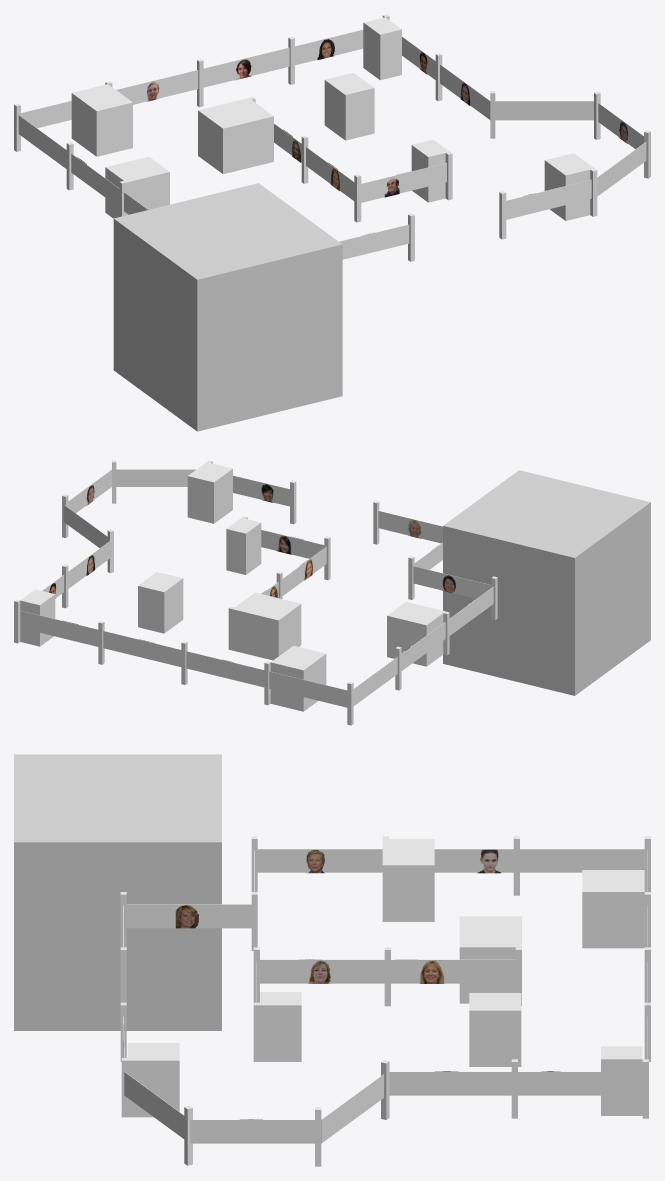
File: task3-faces.dae
3 views of the same model, one above another, from view 1: azimuth 30°, elevation 25°; view 2: azimuth 150°, elevation 25°; view 3: azimuth 270°, elevation 25° (orthographic). The views are drawn at different scales.
Visible parts, largest first — view 1: Cube, Mesh44_Group44_Model_002, Mesh45_Group45_Model_002, Mesh47_Group47_Model_002, Mesh48_Group48_Model_002, Mesh1_Group2_Group1_Model_002, Mesh49_Group49_Model_002, Mesh11_Group12_Group11_Model_002, Mesh43_Group43_Model_002, Mesh23_Group24_Group23_Model_002, Mesh39_Group40_Group39_Model_002, Mesh17_Group18_Group17_Model_002 (+11 smaller); view 2: Cube, Mesh44_Group44_Model_002, Mesh47_Group47_Model_002, Mesh43_Group43_Model_002, Mesh48_Group48_Model_002, Mesh45_Group45_Model_002, Mesh46_Group46_Model_002, Mesh5_Group6_Group5_Model_002, Mesh39_Group40_Group39_Model_002, Mesh41_Group42_Group41_Model_002, Mesh37_Group38_Group37_Model_002, Mesh13_Group14_Group13_Model_002 (+14 smaller); view 3: Cube, Mesh45_Group45_Model_002, Mesh48_Group48_Model_002, Mesh47_Group47_Model_002, Mesh9_Group10_Group9_Model_002, Mesh33_Group34_Group33_Model_002, Mesh44_Group44_Model_002, Mesh3_Group4_Group3_Model_002, Mesh35_Group36_Group35_Model_002, Mesh15_Group16_Group15_Model_002, Mesh19_Group20_Group19_Model_002, Mesh29_Group30_Group29_Model_002 (+9 smaller).
Part boxes in pixels (left/top/right/bottom): Cube: left=113, top=183, right=342, bottom=431; Mesh44_Group44_Model_002: left=198, top=98, right=273, bottom=174; Mesh45_Group45_Model_002: left=71, top=84, right=132, bottom=156; Mesh47_Group47_Model_002: left=324, top=72, right=374, bottom=140; Mesh48_Group48_Model_002: left=105, top=156, right=169, bottom=218; Mesh1_Group2_Group1_Model_002: left=490, top=91, right=593, bottom=138; Mesh49_Group49_Model_002: left=363, top=17, right=401, bottom=80; Mesh11_Group12_Group11_Model_002: left=506, top=168, right=597, bottom=219; Mesh43_Group43_Model_002: left=544, top=153, right=594, bottom=220; Mesh23_Group24_Group23_Model_002: left=361, top=152, right=452, bottom=202; Mesh39_Group40_Group39_Model_002: left=197, top=47, right=289, bottom=107; Mesh17_Group18_Group17_Model_002: left=339, top=213, right=414, bottom=261; Cube: left=443, top=470, right=650, bottom=695; Mesh44_Group44_Model_002: left=232, top=592, right=301, bottom=660; Mesh47_Group47_Model_002: left=138, top=572, right=183, bottom=633; Mesh43_Group43_Model_002: left=187, top=462, right=232, bottom=523; Mesh48_Group48_Model_002: left=387, top=602, right=445, bottom=666; Mesh45_Group45_Model_002: left=270, top=645, right=326, bottom=711; Mesh46_Group46_Model_002: left=226, top=518, right=261, bottom=574; Mesh5_Group6_Group5_Model_002: left=269, top=671, right=353, bottom=725; Mesh39_Group40_Group39_Model_002: left=103, top=631, right=187, bottom=684; Mesh41_Group42_Group41_Model_002: left=20, top=610, right=104, bottom=664; Mesh37_Group38_Group37_Model_002: left=186, top=651, right=270, bottom=705; Mesh13_Group14_Group13_Model_002: left=112, top=460, right=196, bottom=503; Cube: left=14, top=754, right=221, bottom=1030; Mesh45_Group45_Model_002: left=582, top=870, right=644, bottom=948; Mesh48_Group48_Model_002: left=382, top=839, right=434, bottom=921; Mesh47_Group47_Model_002: left=469, top=993, right=521, bottom=1066; Mesh9_Group10_Group9_Model_002: left=190, top=1107, right=321, bottom=1166; Mesh33_Group34_Group33_Model_002: left=518, top=1059, right=648, bottom=1118; Mesh44_Group44_Model_002: left=459, top=916, right=521, bottom=1003; Mesh3_Group4_Group3_Model_002: left=389, top=1059, right=517, bottom=1118; Mesh35_Group36_Group35_Model_002: left=513, top=836, right=644, bottom=895; Mesh15_Group16_Group15_Model_002: left=384, top=947, right=515, bottom=1006; Mesh19_Group20_Group19_Model_002: left=253, top=947, right=384, bottom=1002; Mesh29_Group30_Group29_Model_002: left=251, top=836, right=382, bottom=891.
Bounding box in the file's own units: 7.23 × 6.12 × 2.
20 materials, 18 textured.
